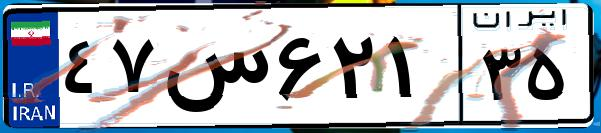1: (385, 28, 445, 110)
2: (330, 28, 385, 110)
3: (475, 38, 525, 113)
4: (57, 26, 110, 100)
5: (525, 38, 570, 115)
6: (270, 28, 330, 110)
7: (110, 28, 158, 98)
س: (158, 20, 270, 120)
